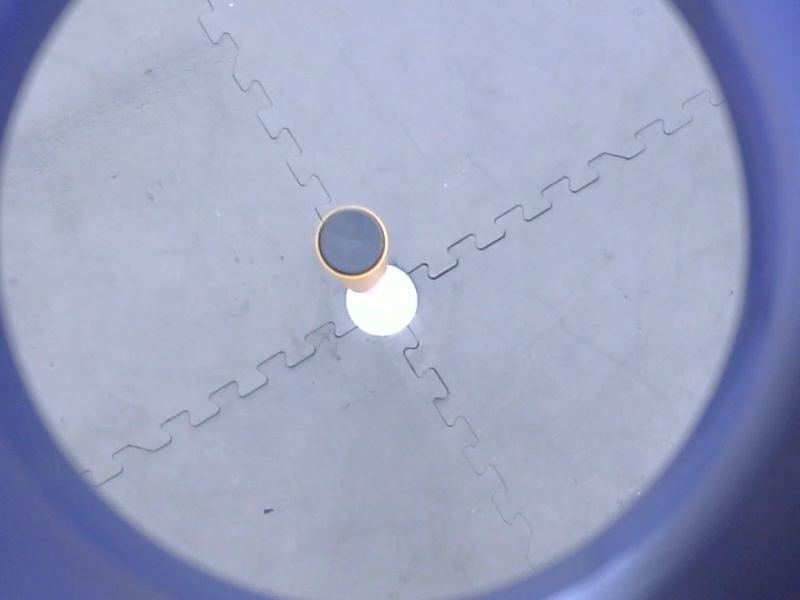tip: (309, 199, 394, 286)
